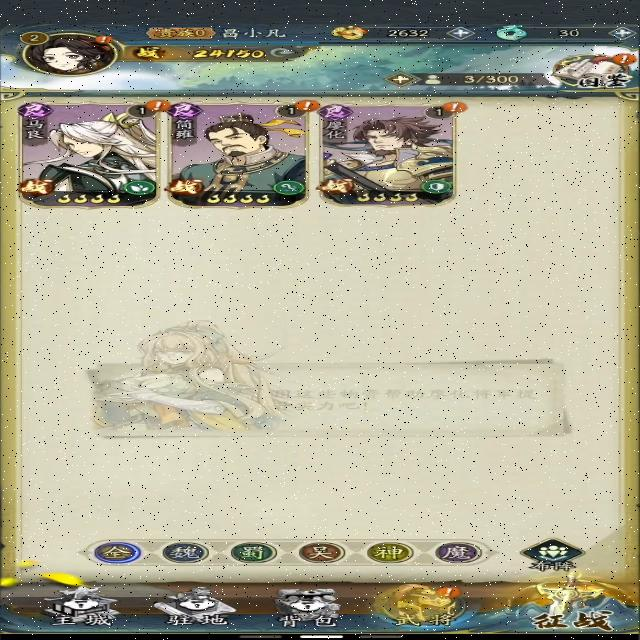hint-guide: (70, 316, 582, 442)
hint-reddot: (138, 96, 177, 114), (437, 98, 471, 115), (290, 97, 323, 114), (435, 584, 466, 601), (88, 32, 120, 46), (608, 52, 637, 66)
navigation-fight: (488, 573, 638, 634)
navigation-hero: (369, 579, 479, 629)
navigation-myHeroes: (12, 100, 163, 210), (171, 100, 314, 211), (322, 100, 466, 210)
navigation-role: (11, 28, 127, 77)
navigation-station-off: (138, 584, 256, 631)
operation-camp: (426, 538, 491, 565), (224, 538, 282, 564), (357, 540, 418, 564), (155, 539, 211, 564), (88, 541, 143, 565), (297, 540, 349, 565)
operation-deployment: (516, 535, 588, 572)
operation-gallery: (545, 49, 640, 92)
